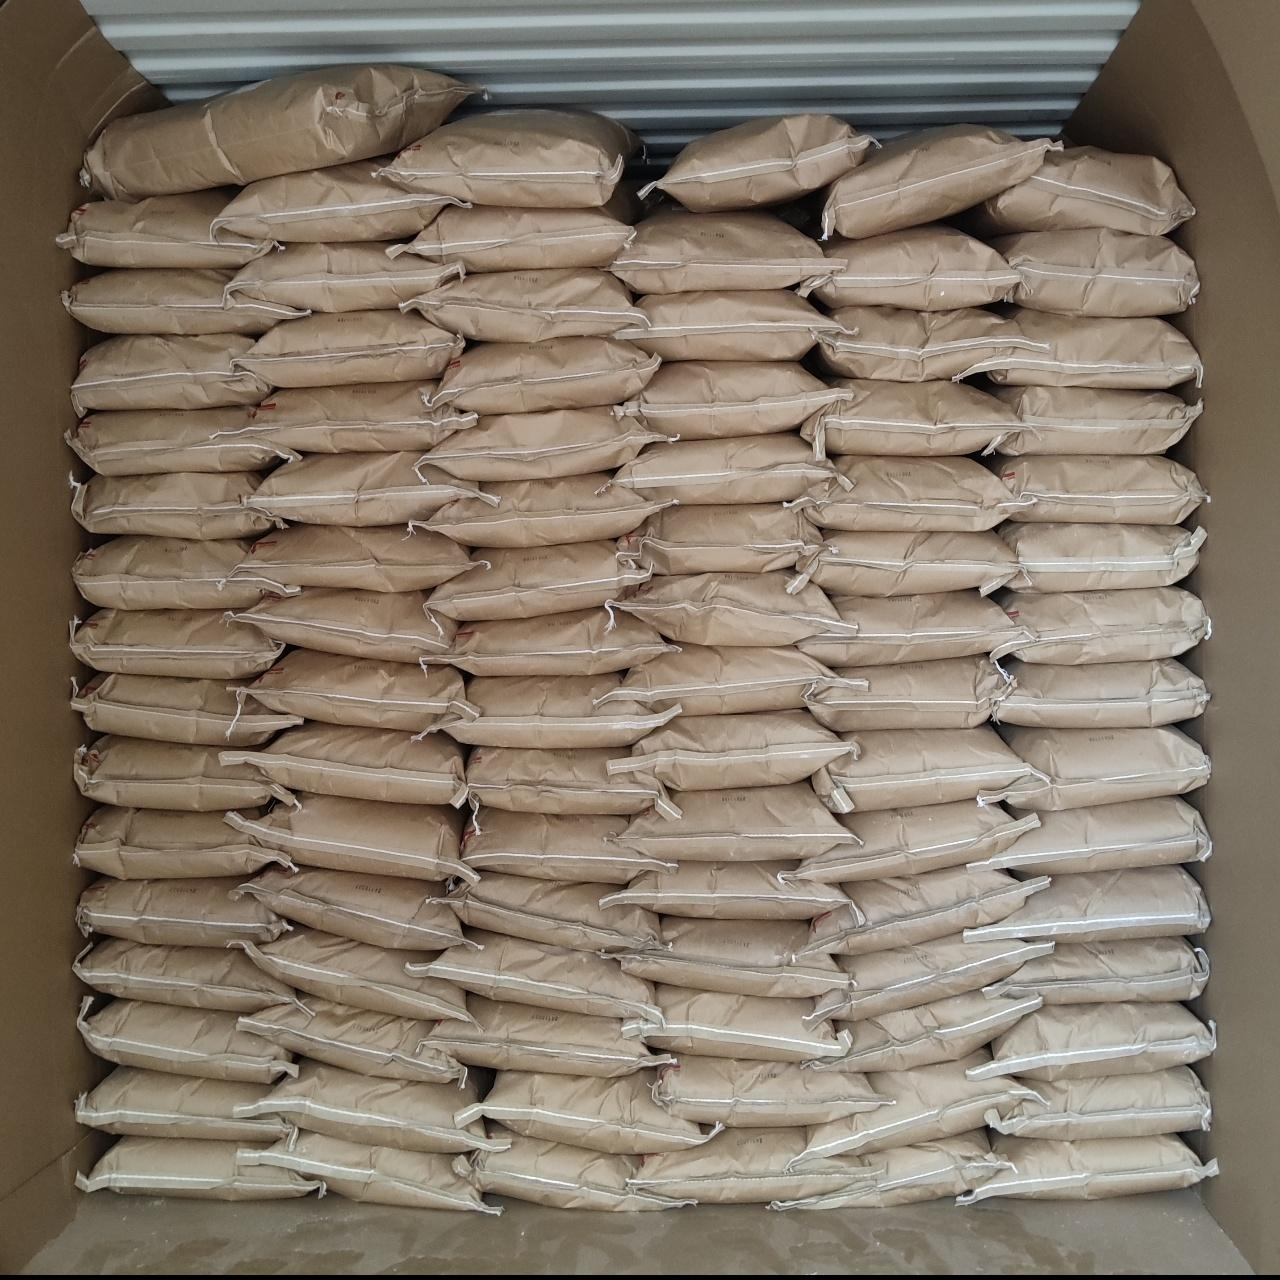sack: (80, 65, 475, 199), (788, 1048, 1039, 1172), (821, 125, 1062, 238), (238, 927, 479, 1032), (376, 109, 634, 207), (793, 863, 1048, 961), (236, 1066, 513, 1153), (406, 931, 659, 1024), (639, 114, 878, 212), (237, 1126, 498, 1212), (226, 793, 478, 882), (804, 933, 1053, 1023), (456, 1070, 722, 1154), (781, 799, 1040, 883), (230, 866, 481, 952), (423, 992, 675, 1077), (810, 725, 1047, 814), (212, 161, 472, 242), (237, 998, 466, 1088), (220, 722, 467, 805), (609, 208, 847, 294), (952, 309, 1202, 390), (237, 649, 477, 733), (607, 710, 858, 790), (412, 673, 678, 748), (407, 473, 677, 546), (802, 990, 1041, 1072), (77, 995, 297, 1084), (967, 796, 1211, 876), (595, 644, 869, 715), (770, 1129, 1013, 1209), (970, 1002, 1216, 1081), (963, 865, 1210, 943), (618, 782, 861, 861), (243, 451, 498, 526), (422, 405, 677, 480), (979, 147, 1195, 235), (798, 225, 1019, 311), (607, 570, 857, 646), (75, 1066, 298, 1151), (72, 937, 314, 1015), (427, 871, 659, 952), (627, 1127, 875, 1202), (785, 456, 1033, 531), (467, 746, 680, 833), (990, 227, 1198, 316), (56, 187, 284, 268), (401, 268, 650, 342), (425, 337, 661, 415), (617, 361, 850, 440), (621, 916, 847, 997), (452, 1136, 696, 1211), (232, 523, 487, 594), (602, 432, 853, 504), (958, 1134, 1218, 1203), (421, 607, 677, 676), (798, 590, 1024, 668), (427, 540, 647, 620), (623, 985, 850, 1062), (801, 380, 1019, 460), (232, 312, 464, 387), (817, 306, 1048, 381), (73, 735, 299, 811), (652, 1055, 891, 1126), (601, 861, 862, 926), (72, 673, 301, 747), (611, 290, 853, 360), (462, 806, 677, 884), (987, 1066, 1210, 1141), (227, 242, 465, 312), (71, 334, 271, 417), (1010, 726, 1210, 809), (225, 588, 457, 659), (74, 806, 298, 879), (72, 536, 299, 608), (250, 380, 477, 452), (1001, 586, 1210, 664), (65, 407, 301, 476), (387, 206, 633, 272), (62, 269, 308, 334), (807, 656, 1017, 731), (787, 530, 1018, 597), (76, 1137, 319, 1200), (76, 877, 292, 947), (984, 937, 1209, 1004), (991, 385, 1202, 456), (70, 609, 286, 678), (72, 472, 291, 540), (994, 658, 1209, 727), (999, 522, 1206, 592), (618, 503, 821, 574), (995, 455, 1206, 523)
